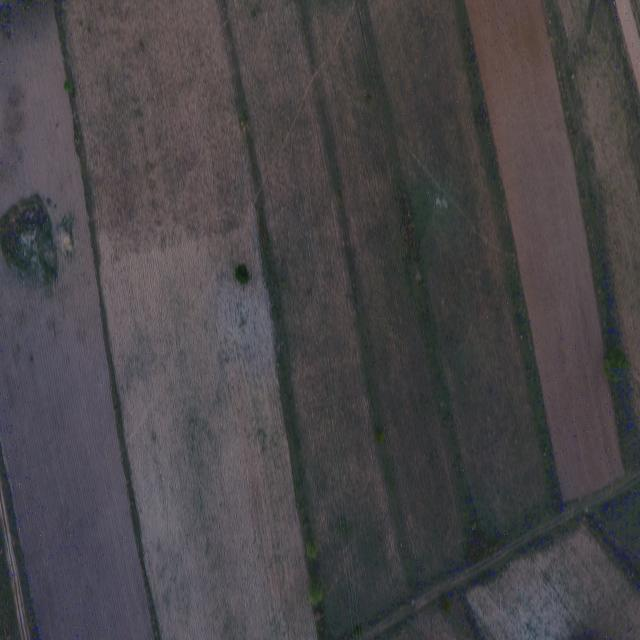boundaries: (218, 19, 337, 636), (53, 22, 172, 637), (452, 23, 566, 506)
